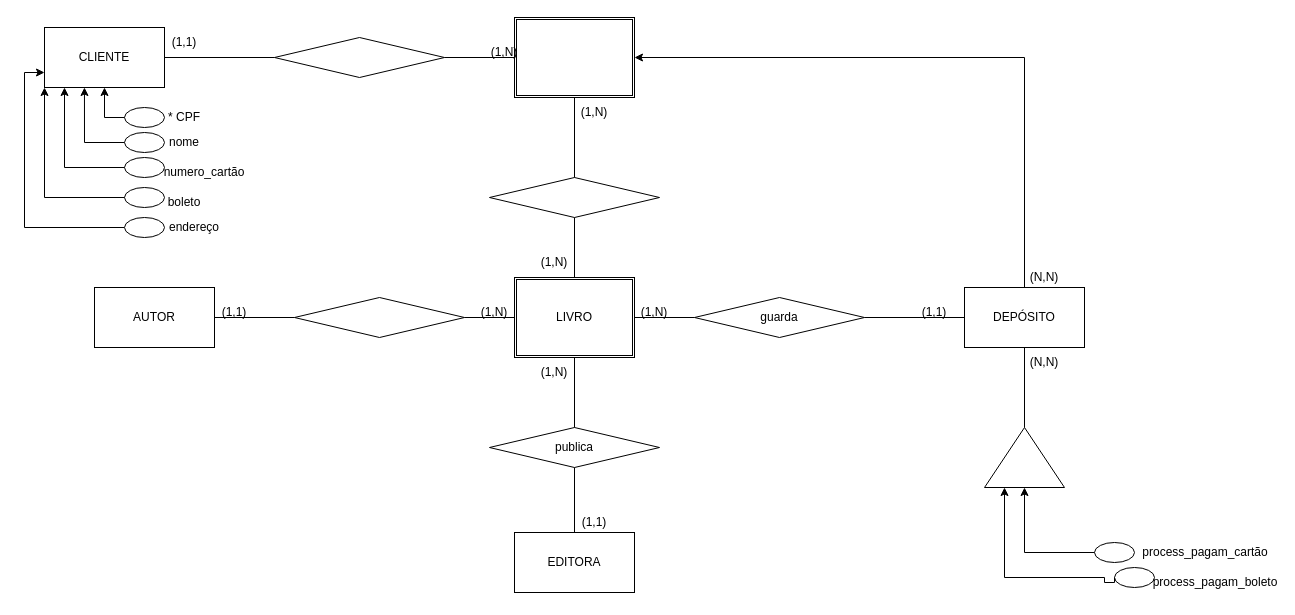
The diagram is 1295 pixels wide and 615 high, and some of its shapes have lost their labels. The centre of each missing label's shape, as x and y in pixels:
"contem" belongs at [574,197].
"escreve" belongs at [379,317].
"faz" belongs at [359,57].
"PEDIDO" belongs at [574,57].
